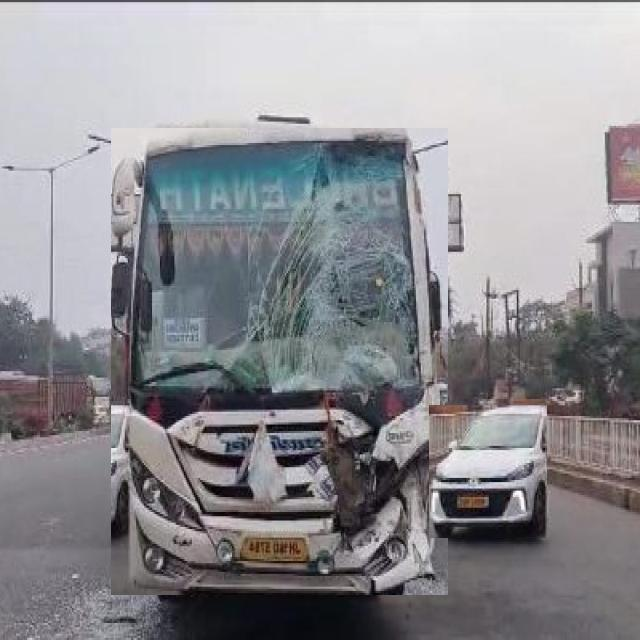accident: (112, 128, 448, 595)
car: (430, 405, 547, 538)
